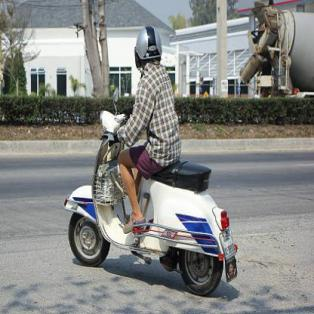Motocicleta: (54, 98, 240, 298)
